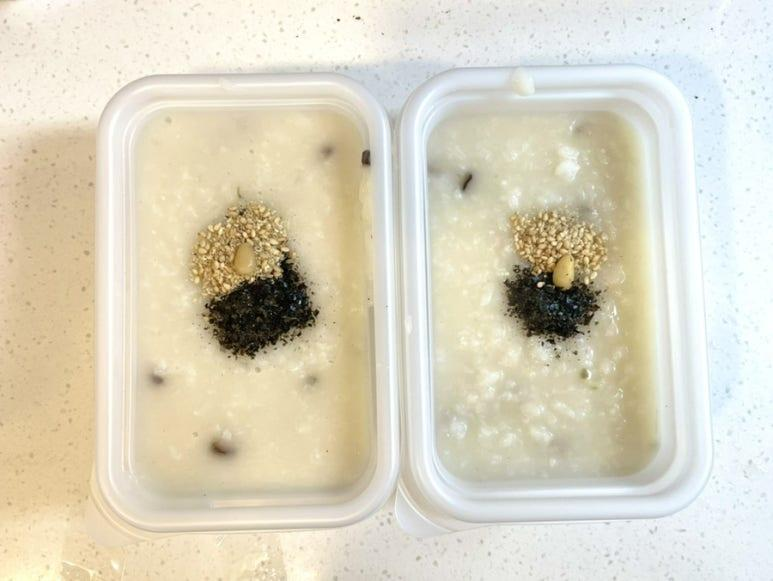Lunch Box: (395, 65, 711, 534), (94, 73, 398, 537)
